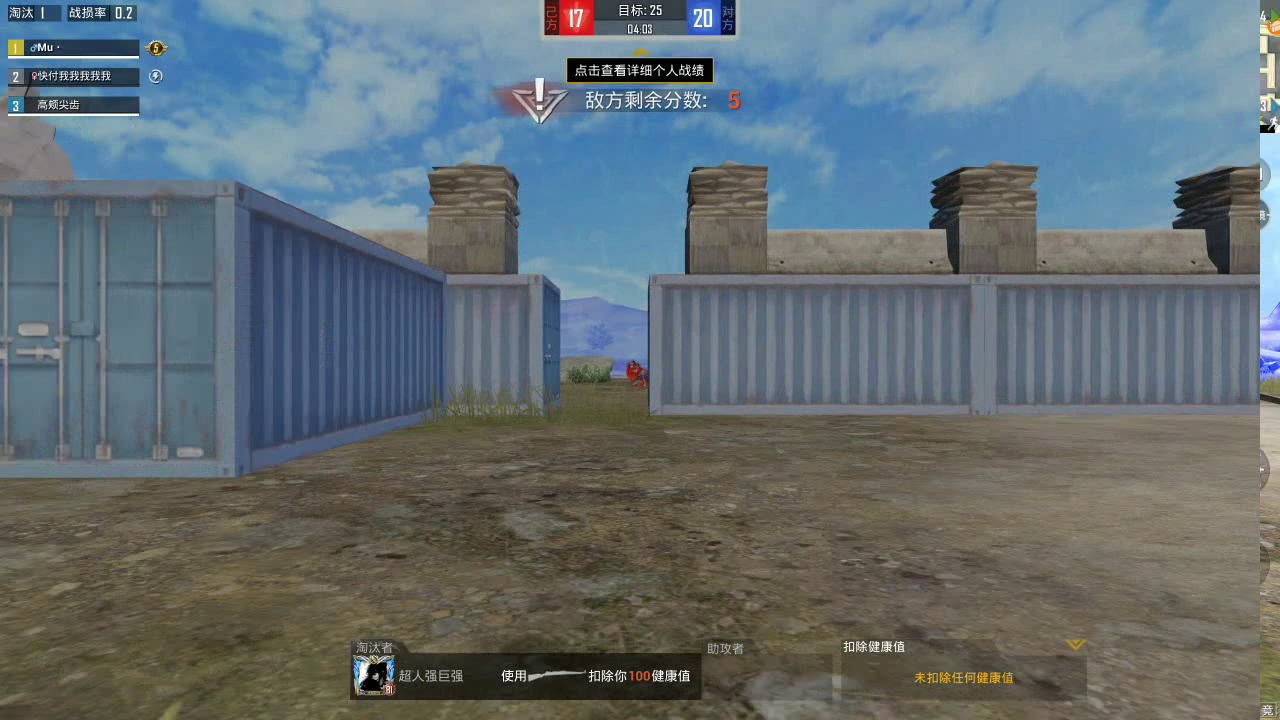enemy: (623, 356, 647, 385)
